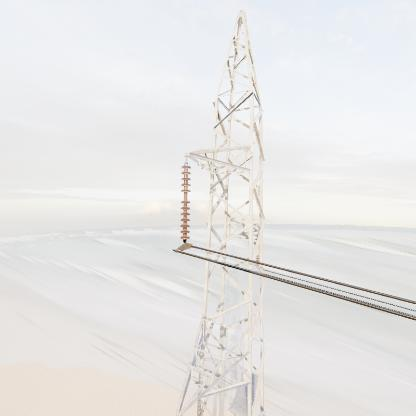insulator: (177, 161, 194, 245)
